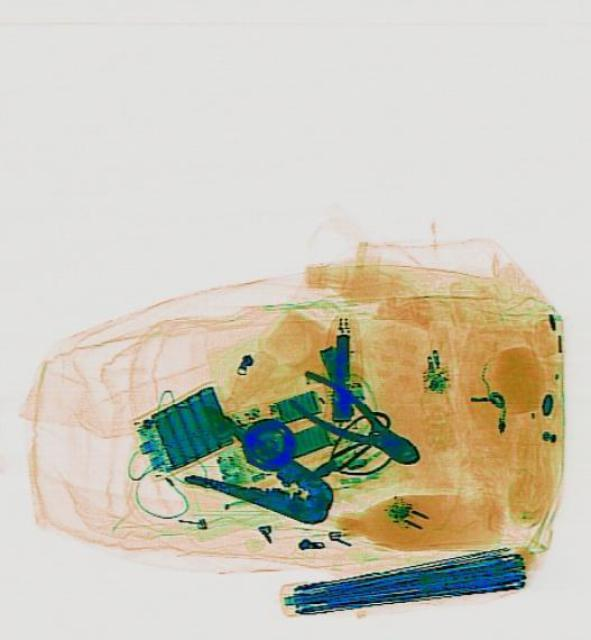Pliers: (180, 410, 345, 542), (283, 364, 430, 478)
Scissors: (289, 402, 408, 504)
